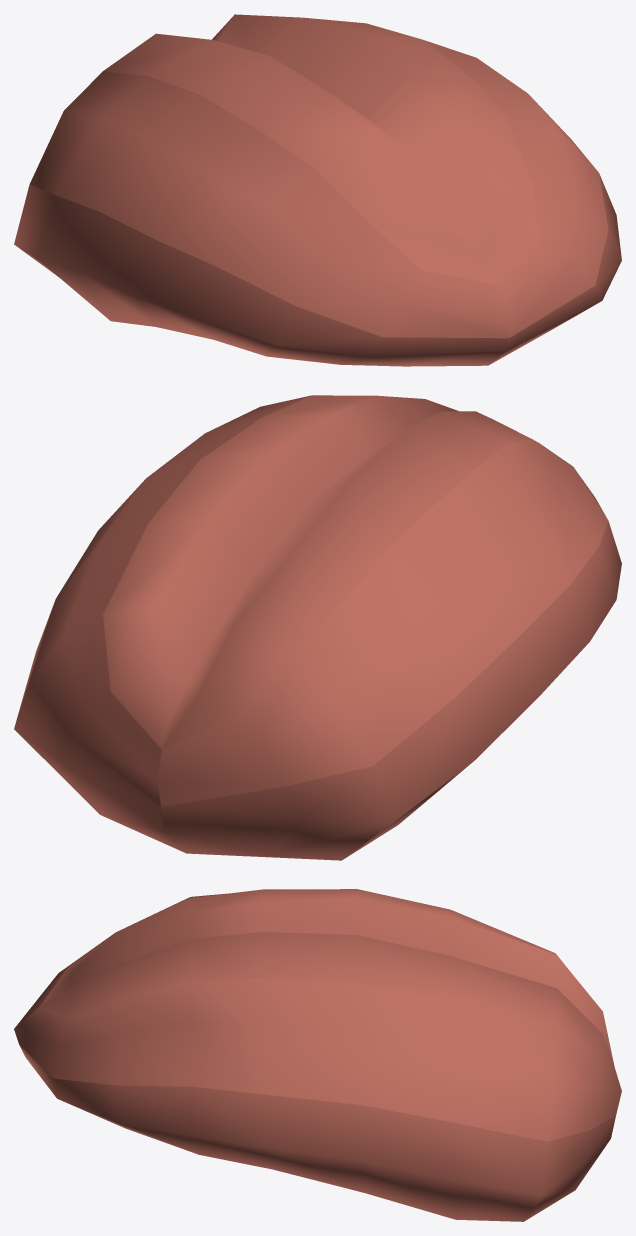
File: Tongue.fbx
The picture shows the model from 3 angles, top to bottom: view 1: azimuth 30°, elevation 25°; view 2: azimuth 150°, elevation 25°; view 3: azimuth 270°, elevation 25°; orthographic projection. The views are drawn at different scales.
Parts seen in each view (by area): view 1: tongueBridge_bsGeo; view 2: tongueBridge_bsGeo; view 3: tongueBridge_bsGeo.
Part boxes in pixels (box(x1,y1,x2,y2)): tongueBridge_bsGeo: box(14, 14, 621, 366); tongueBridge_bsGeo: box(14, 395, 621, 860); tongueBridge_bsGeo: box(14, 889, 621, 1221).
Size of the model in its own units: 6.42 by 4.18 by 8.49.
